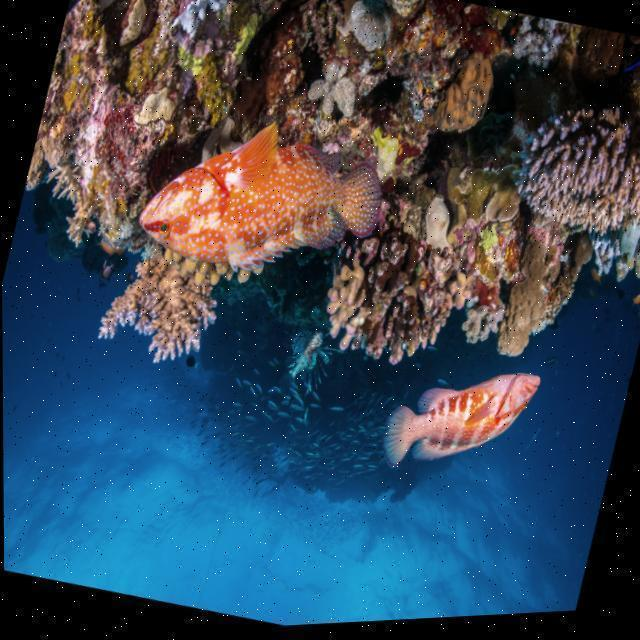Healthy Coral: (506, 75, 640, 251), (91, 259, 216, 386), (30, 149, 100, 253), (433, 45, 501, 148), (153, 243, 273, 298), (311, 256, 375, 357), (458, 158, 532, 232), (506, 17, 568, 84), (459, 303, 504, 353), (442, 273, 477, 319)
